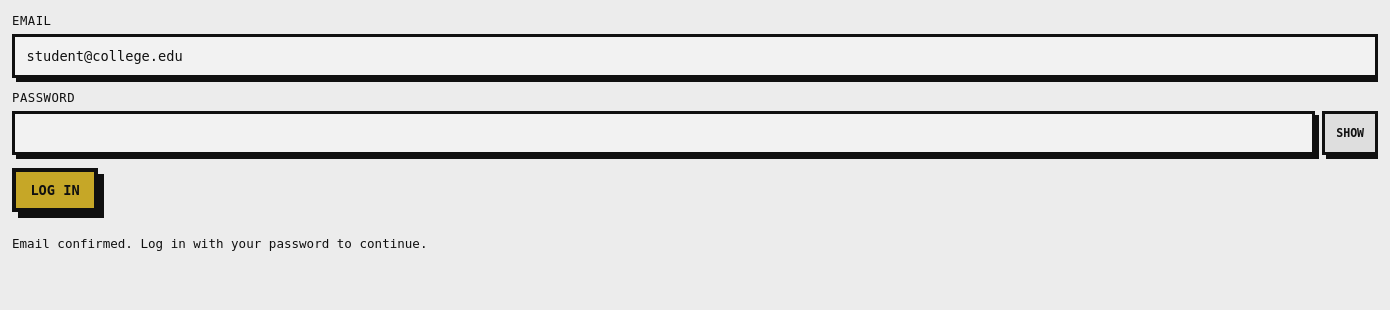
Test: auth forms › prefills login email, surfaces confirmation copy, stores credentials, and redirects on success
Expected: the field labelled "Email" holds "student@college.edu", [12,34,1378,78]
Expected: the text "Email confirmed. Log in with your password to continue." is shown, [12,236,428,251]
Type "correct-password" into the password field labelled "Password" at (663, 133), box [12,111,1315,155]
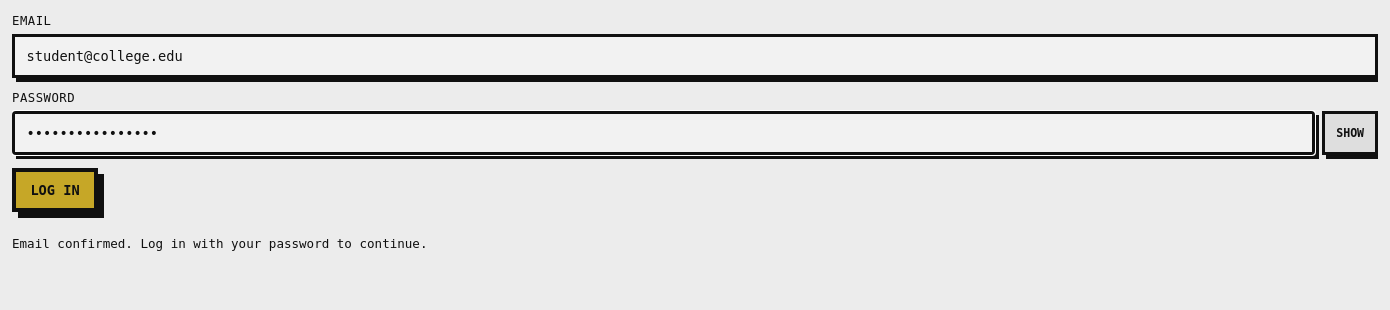
Click the button "LOG IN" at (55, 190), box [12,168,98,212]
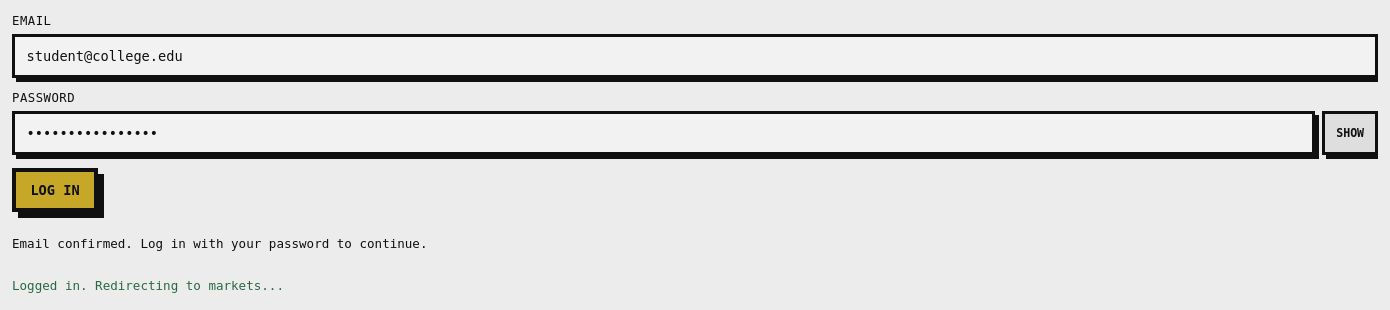
Result: the text "Logged in. Redirecting to markets..." is shown at [12,278,284,293]
